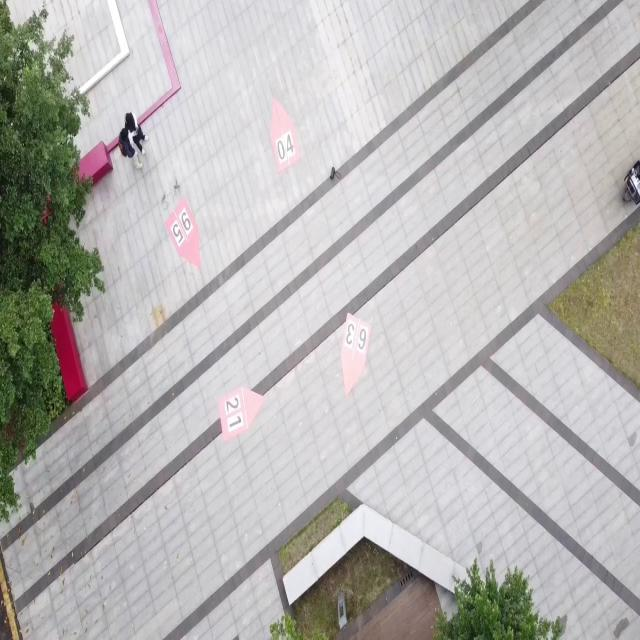-sign-: (165, 196, 201, 272), (340, 311, 371, 397), (218, 385, 263, 444), (270, 95, 302, 173)
